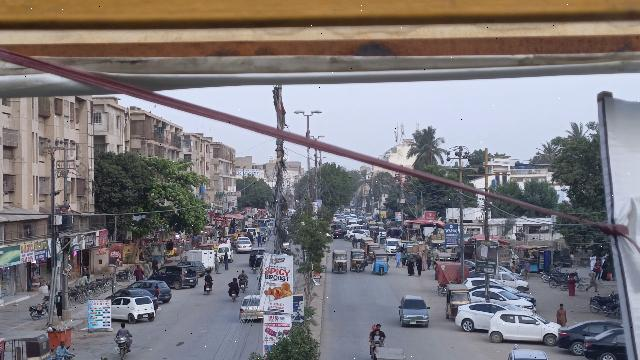Bike: (113, 334, 131, 357), (202, 281, 215, 297), (229, 289, 240, 302), (239, 282, 249, 294)
Car: (488, 309, 560, 345), (554, 319, 615, 354), (454, 299, 516, 333), (582, 327, 625, 360), (112, 295, 156, 324), (151, 264, 199, 289), (396, 294, 430, 329), (132, 277, 173, 303), (237, 295, 263, 323)
Person: (553, 301, 568, 326), (52, 341, 71, 358), (370, 322, 386, 341), (117, 321, 129, 337), (406, 257, 415, 277), (238, 268, 248, 284), (416, 256, 423, 277), (228, 276, 239, 288), (204, 270, 214, 280)
Rickshaw: (443, 282, 470, 321), (331, 248, 350, 275), (349, 248, 367, 273), (372, 251, 390, 276)
Truck: (184, 248, 216, 272)
